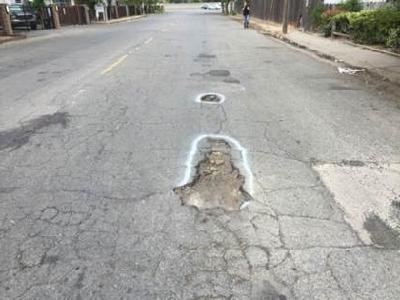pothole: (175, 135, 253, 212), (199, 89, 223, 102)
